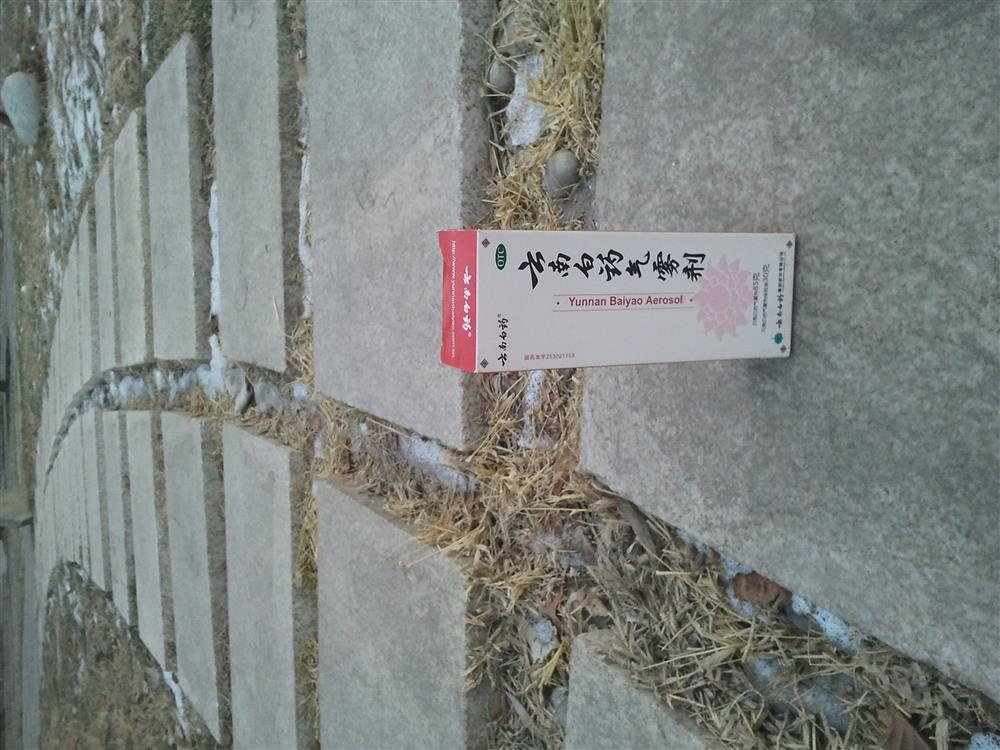Yunnan_Baiyao_Aerosol: (385, 196, 836, 394)
